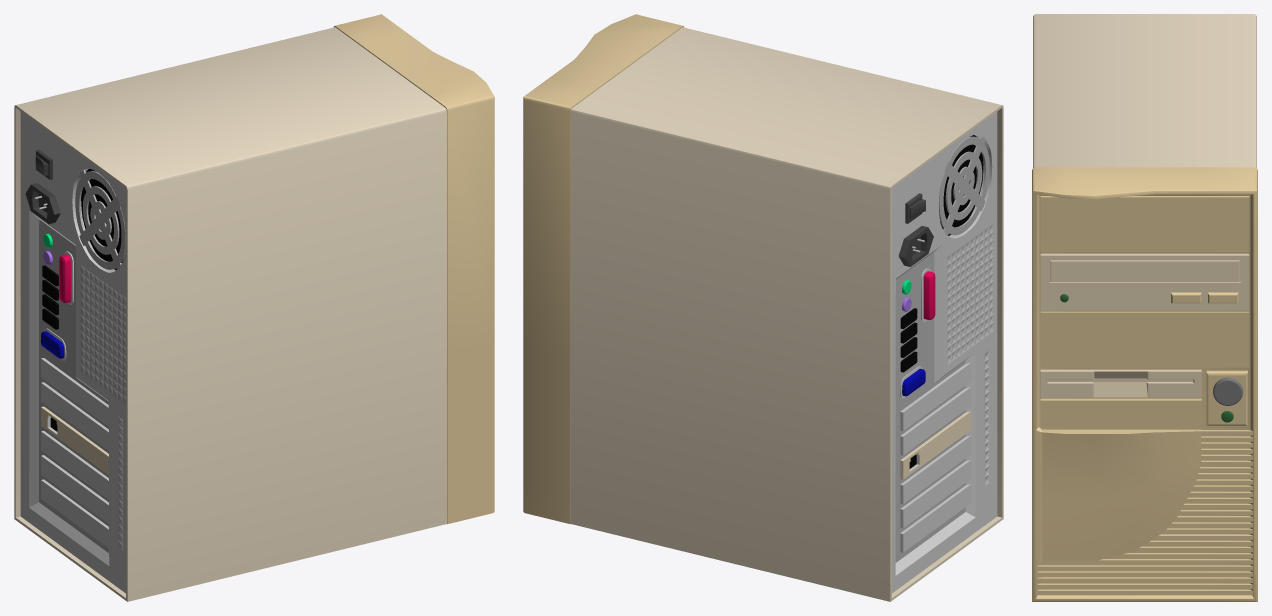
The picture shows the model from 3 angles, left to right: view 1: azimuth 30°, elevation 25°; view 2: azimuth 150°, elevation 25°; view 3: azimuth 270°, elevation 25°; orthographic projection.
Parts seen in each view (by area): view 1: Cube, Cube.011, Cube.001, Cube.016, Cube.012, Cube.020, Cube.015, Cube.019, Cube.017; view 2: Cube, Cube.011, Cube.001, Cube.016, Cube.012, Cube.020, Cube.019, Cube.015, Cube.017; view 3: Cube.001, Cube, Cube.008, Cube.005, Cube.002, Cube.003, Cube.007, Cube.006, Cube.009, Cube.004, Cylinder.002.
Boxes of the visible parts, x1,y1,x2,y2 form: Cube: (14,27,446,601); Cube.011: (20,111,125,593); Cube.001: (333,14,494,524); Cube.016: (41,358,108,548); Cube.012: (75,170,125,269); Cube.020: (41,406,108,475); Cube.015: (25,183,60,223); Cube.019: (42,265,58,329); Cube.017: (59,251,73,304); Cube: (571,27,1003,601); Cube.011: (892,111,997,593); Cube.001: (523,14,684,524); Cube.016: (900,363,971,552); Cube.012: (939,136,989,235); Cube.020: (900,411,971,479); Cube.019: (900,308,917,372); Cube.015: (898,226,933,266); Cube.017: (921,268,935,321); Cube.001: (1032,167,1257,601); Cube: (1033,14,1256,167); Cube.008: (1037,430,1252,595); Cube.005: (1040,311,1249,367); Cube.002: (1040,196,1249,252); Cube.003: (1040,253,1249,310); Cube.007: (1040,369,1201,397); Cube.006: (1040,398,1201,426); Cube.009: (1206,370,1247,425); Cube.004: (1171,292,1238,303); Cylinder.002: (1213,377,1242,405).
Bounding box in the file's own units: 192 × 200 × 99.26.
